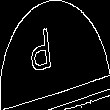P_S: (41, 27, 69, 83)
